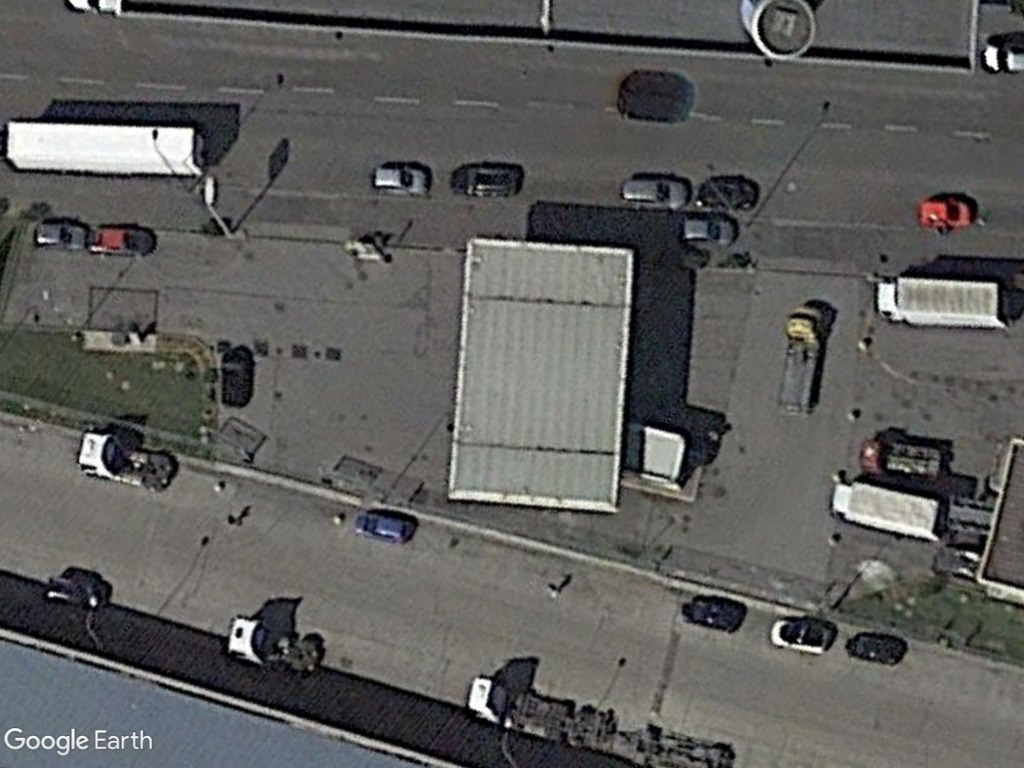car: (445, 162, 529, 200), (768, 612, 837, 656), (620, 173, 695, 211), (86, 225, 161, 259), (352, 511, 421, 546), (31, 218, 93, 254), (370, 163, 433, 198), (678, 217, 739, 251)
longvehicle: (2, 118, 211, 179)
other: (771, 300, 838, 417), (464, 674, 575, 739), (221, 611, 328, 675), (74, 428, 179, 492)
truck: (874, 271, 1018, 333), (825, 477, 951, 544)
